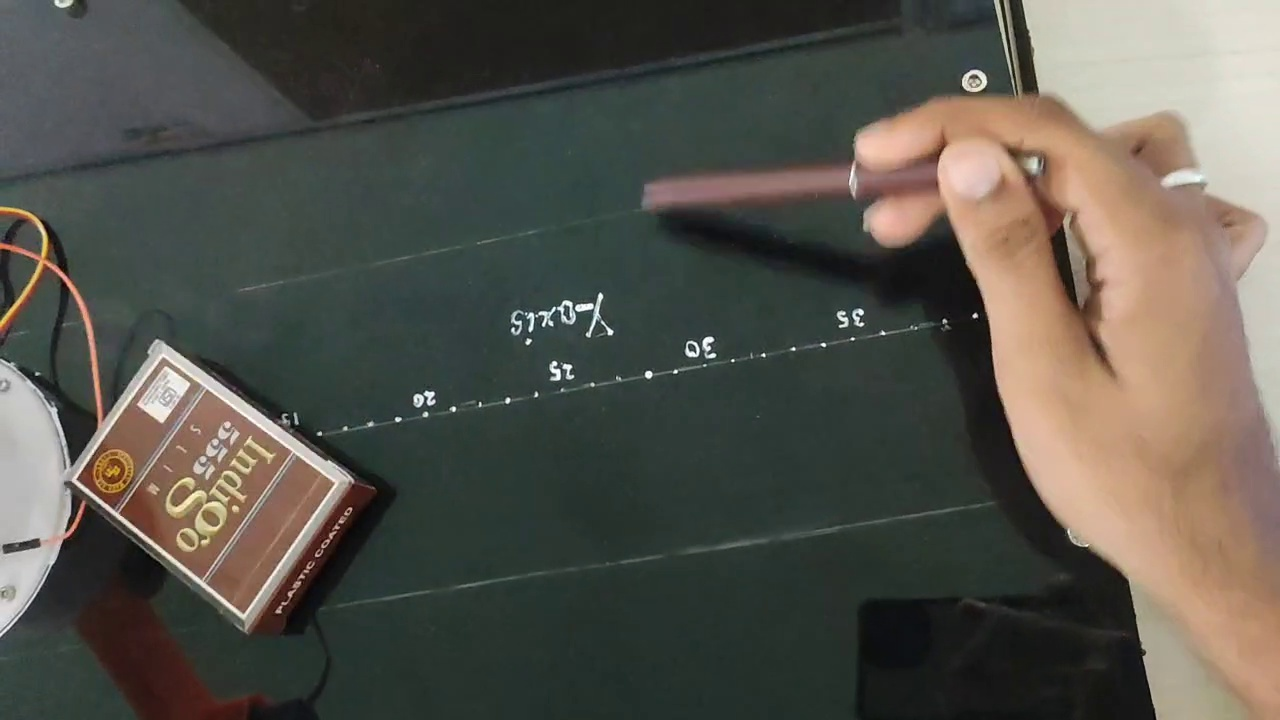BEX: (71, 356, 339, 621)
